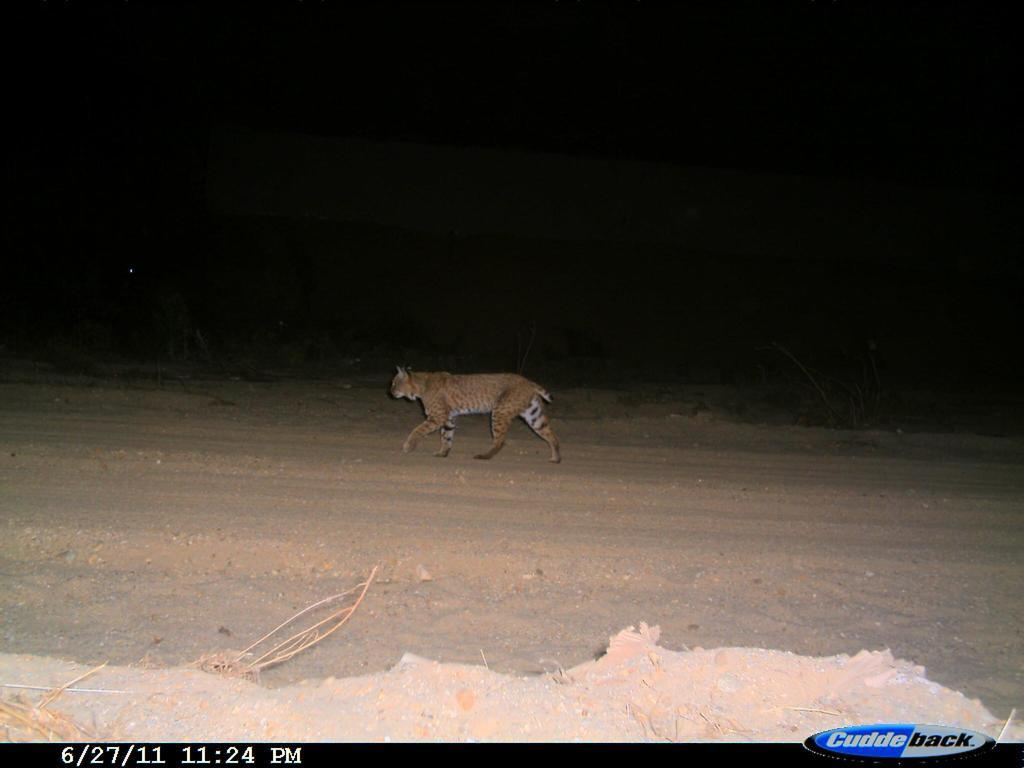bobcat: (346, 337, 583, 481)
